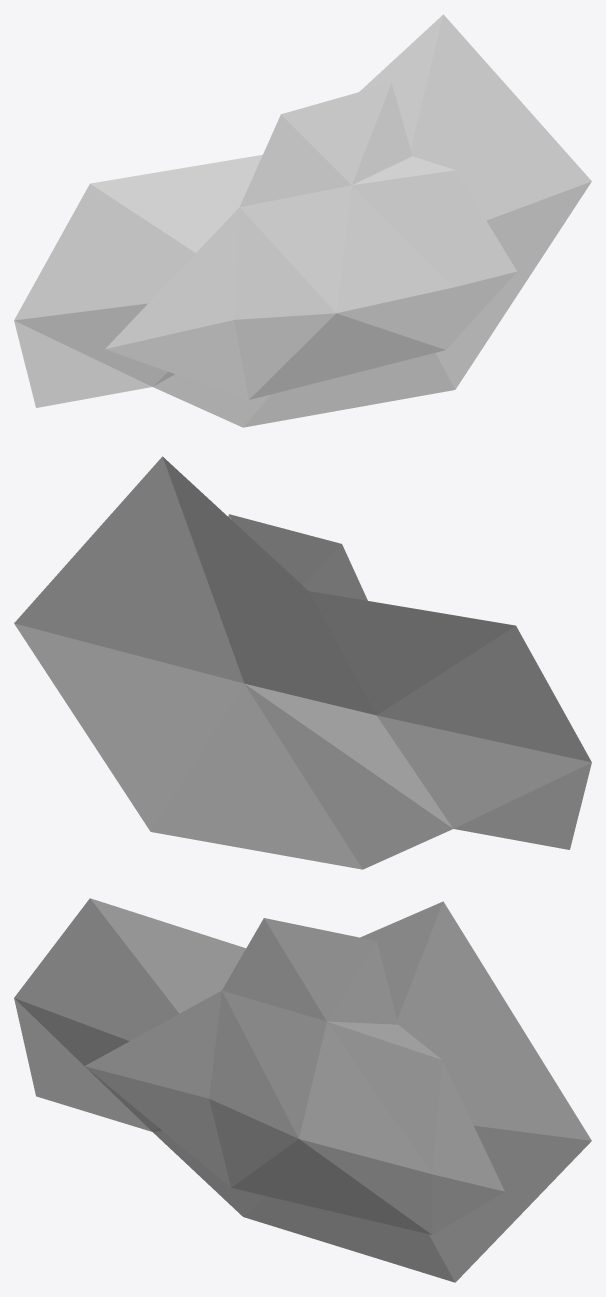
File: SM_Env_Ivy_Flowers_07.glb
3 views of the same model, one above another, from view 1: azimuth 30°, elevation 25°; view 2: azimuth 150°, elevation 25°; view 3: azimuth 330°, elevation 25° (orthographic).
Parts seen in each view (by area): view 1: SM_Env_Ivy_Flowers_07; view 2: SM_Env_Ivy_Flowers_07; view 3: SM_Env_Ivy_Flowers_07.
Boxes of the visible parts, <box> form: SM_Env_Ivy_Flowers_07: <box>14,14,591,427</box>; SM_Env_Ivy_Flowers_07: <box>14,456,591,869</box>; SM_Env_Ivy_Flowers_07: <box>14,898,591,1282</box>.
Bounding box in the file's own units: 1.1 × 0.6895 × 0.0617.
1 material, 1 textured.
